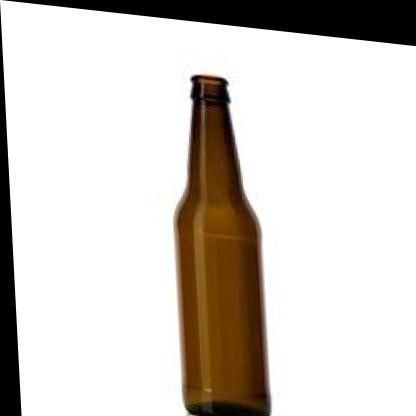trash: (176, 75, 269, 415)
